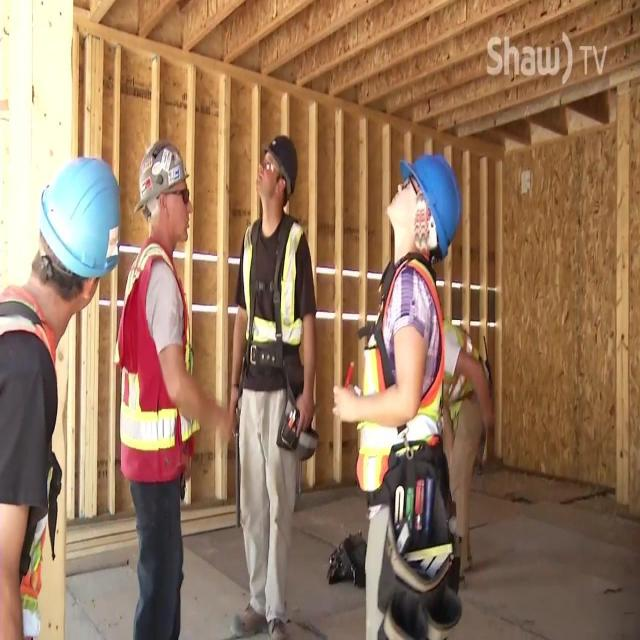Vest: (0, 273, 58, 639), (356, 255, 444, 492), (111, 242, 200, 474), (241, 216, 303, 348), (446, 316, 480, 421)
